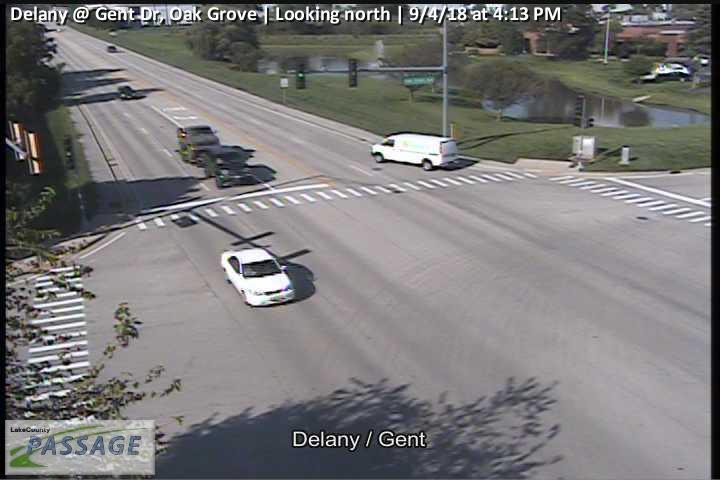SUV: (371, 132, 458, 170), (205, 146, 259, 187), (178, 124, 221, 163)
Sedan: (219, 246, 295, 305), (118, 86, 136, 99)
